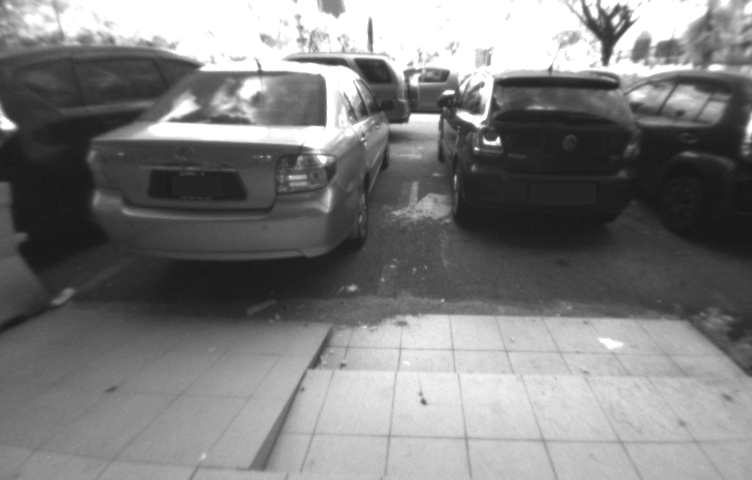down_steps: (280, 311, 749, 480)
mixed_gradient: (199, 315, 374, 480)
